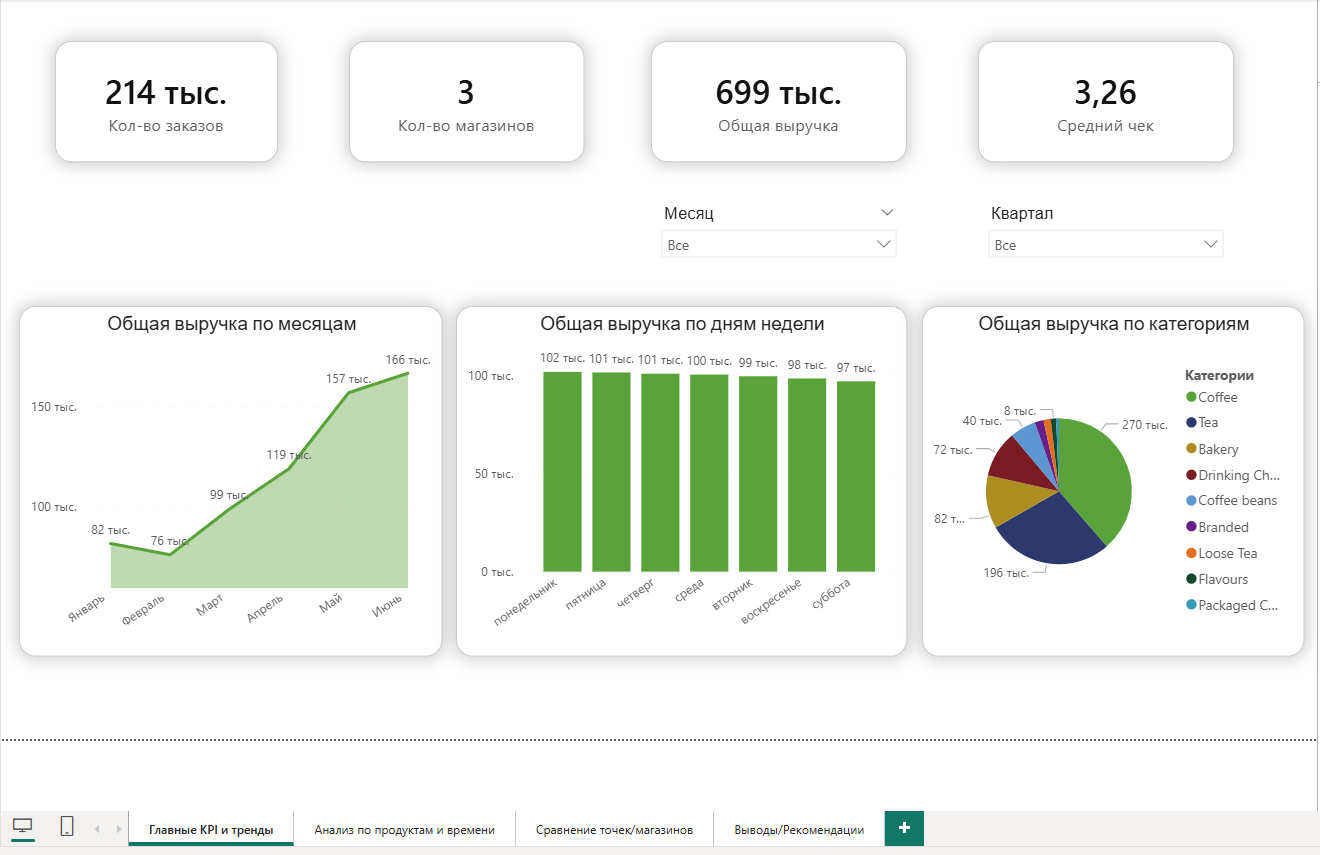

This screenshot's page, from the dashboard's own definition file:
{"tool":"powerbi","page":{"name":"Главные KPI и тренды","canvas":[1280,720],"ordinal":0},"visuals":[{"type":"cardVisual","fields":{"Data":["DAX.Кол-во заказов"]},"box":[52.5,40.9,216.9,117.7],"z":0},{"type":"cardVisual","fields":{"Data":["DAX.Кол-во уник-ых магазинов"]},"box":[338.5,40.9,228.6,117.7],"z":1000},{"type":"cardVisual","fields":{"Data":["DAX.Общая выручка"]},"box":[632.2,40.9,249,117.7],"z":2000},{"type":"cardVisual","fields":{"Data":["DAX.Средний чек"]},"box":[950.3,40.9,249,117.7],"z":3000},{"type":"lineChart","title":"Общая выручка по месяцам","fields":{"Y":["DAX.Общая выручка"],"Category":["Transactions.transaction_date.Изменение.Иерархия дат.Месяц"]},"box":[17.5,298.6,412.4,341.4],"z":4000},{"type":"columnChart","title":"Общая выручка по дням недели","fields":{"Y":["DAX.Общая выручка"],"Category":["Transactions.Название дня"]},"box":[442.6,298.6,438.7,341.4],"z":5000},{"type":"pieChart","title":"Общая выручка по категориям","fields":{"Y":["DAX.Общая выручка"],"Category":["Transactions.product_category"]},"box":[895.8,298.6,371.6,341.4],"z":6000},{"type":"slicer","fields":{"Values":["Transactions.transaction_date.Изменение.Иерархия дат.Месяц"]},"box":[632.2,194.5,249,73.9],"z":7000},{"type":"slicer","fields":{"Values":["Transactions.transaction_date.Изменение.Иерархия дат.Квартал"]},"box":[950.3,194.5,249,72.9],"z":8000}]}

Visuals, with their boxes on the page's 1280x720 design canvas (x1, y1, x2, y2). These are canvas units, not pixel positions in the 1320x855 screenshot, which may show the page scaled, cropped or inside an application window:
cardVisual - DAX.Кол-во заказов: (52, 41, 269, 159)
cardVisual - DAX.Кол-во уник-ых магазинов: (338, 41, 567, 159)
cardVisual - DAX.Общая выручка: (632, 41, 881, 159)
cardVisual - DAX.Средний чек: (950, 41, 1199, 159)
"Общая выручка по месяцам" lineChart: (18, 299, 430, 640)
"Общая выручка по дням недели" columnChart: (443, 299, 881, 640)
"Общая выручка по категориям" pieChart: (896, 299, 1267, 640)
slicer - Transactions.transaction_date.Изменение.Иерархия дат.Месяц: (632, 194, 881, 268)
slicer - Transactions.transaction_date.Изменение.Иерархия дат.Квартал: (950, 194, 1199, 267)
